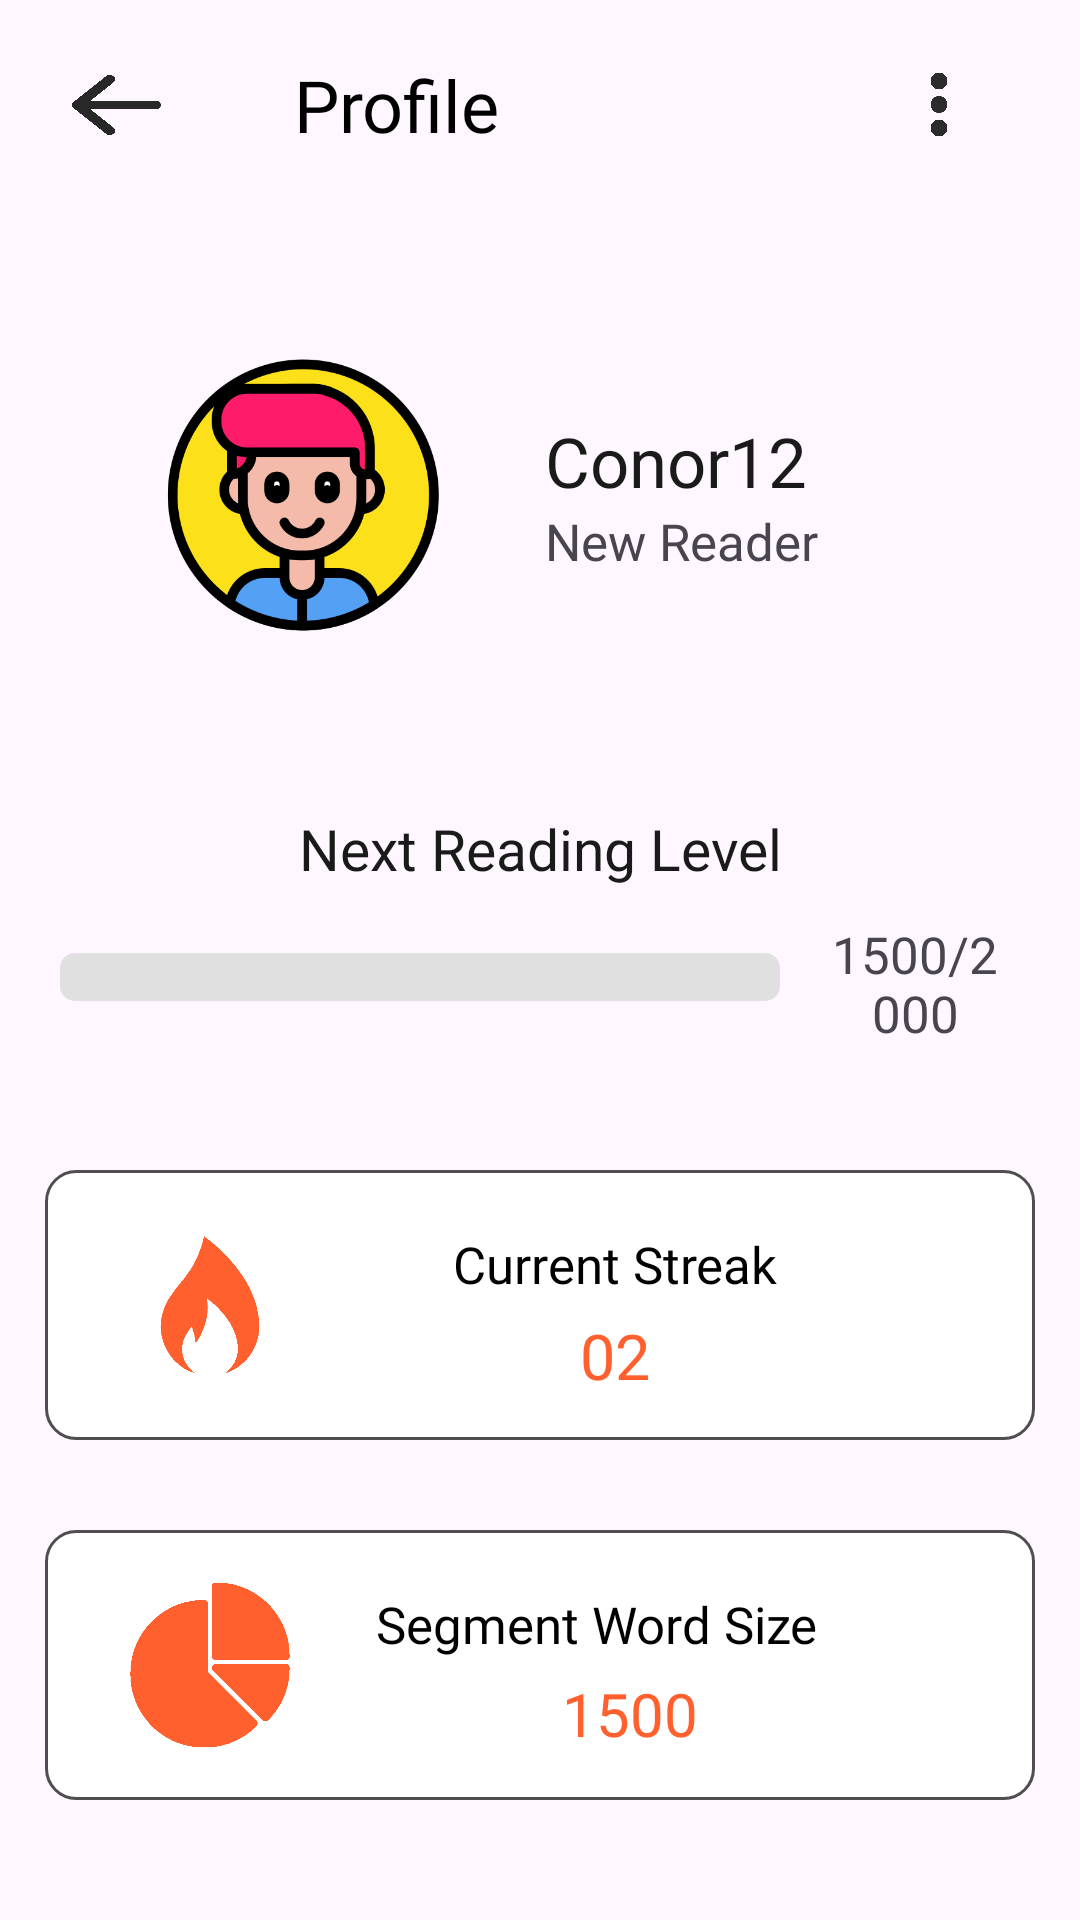

Named icons in this screenshot (1080*1920) and their bounding boxes, (x1, y1, x2, y2):
arrow: (72, 75, 161, 135)
market share: (130, 1583, 290, 1747)
person: (168, 359, 439, 631)
three vertical dots: (931, 73, 947, 136)
